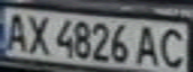2: (90, 19, 112, 63)
4: (51, 16, 75, 57)
6: (109, 20, 136, 65)
8: (69, 17, 93, 61)
A: (133, 22, 163, 68), (0, 10, 30, 53)
C: (154, 25, 190, 70)
X: (21, 11, 54, 55)
